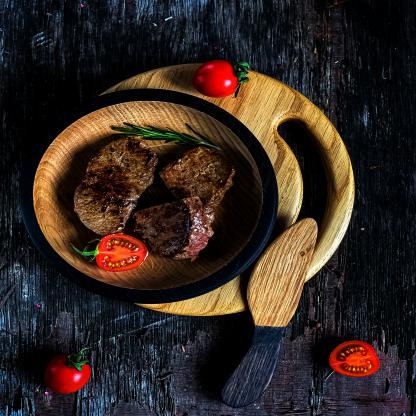Carne: (153, 142, 233, 208), (80, 132, 156, 199), (65, 171, 141, 234), (137, 200, 208, 262)
